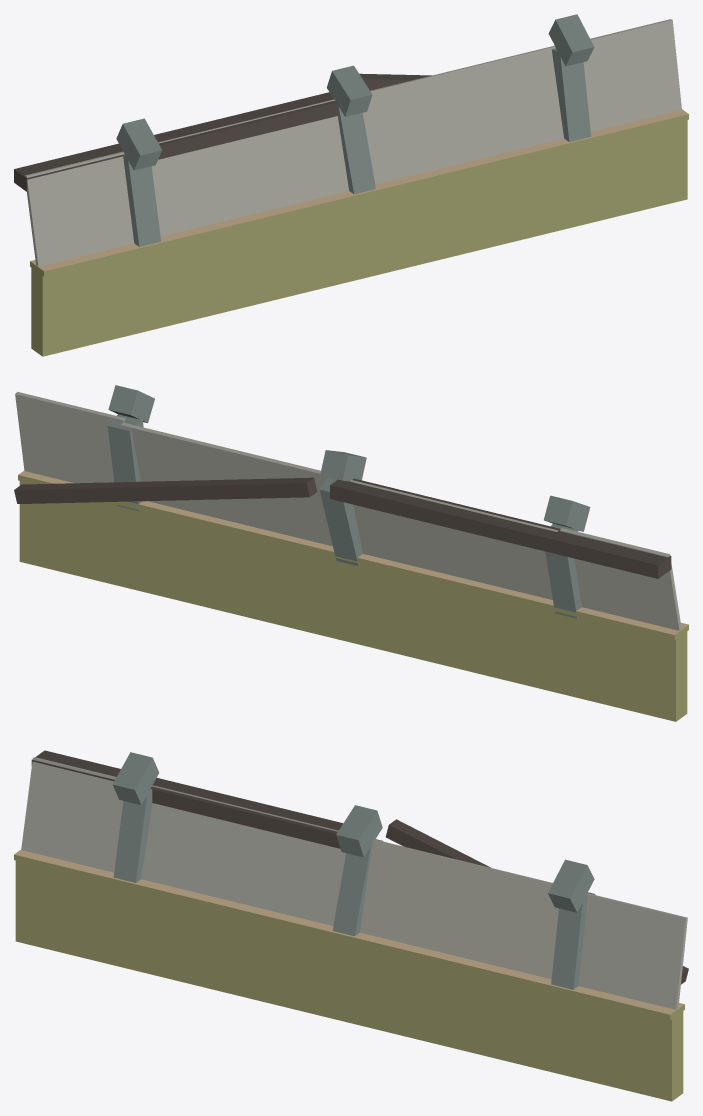
Rendered from SM_VallaBetera_MuroBajo_e2_Danada_LOD1.fbx.
3 views of the same model, one above another, from view 1: azimuth 30°, elevation 25°; view 2: azimuth 150°, elevation 25°; view 3: azimuth 330°, elevation 25° (orthographic).
Visible parts, largest first — view 1: SM_valla_estados_v7_LOD1; view 2: SM_valla_estados_v7_LOD1; view 3: SM_valla_estados_v7_LOD1.
Boxes of the visible parts, box(x1,y1,x2,y2) form: SM_valla_estados_v7_LOD1: box(14, 14, 688, 356); SM_valla_estados_v7_LOD1: box(14, 385, 688, 721); SM_valla_estados_v7_LOD1: box(14, 750, 688, 1101).
Size of the model in its own units: 10 by 2.95 by 1.14.
